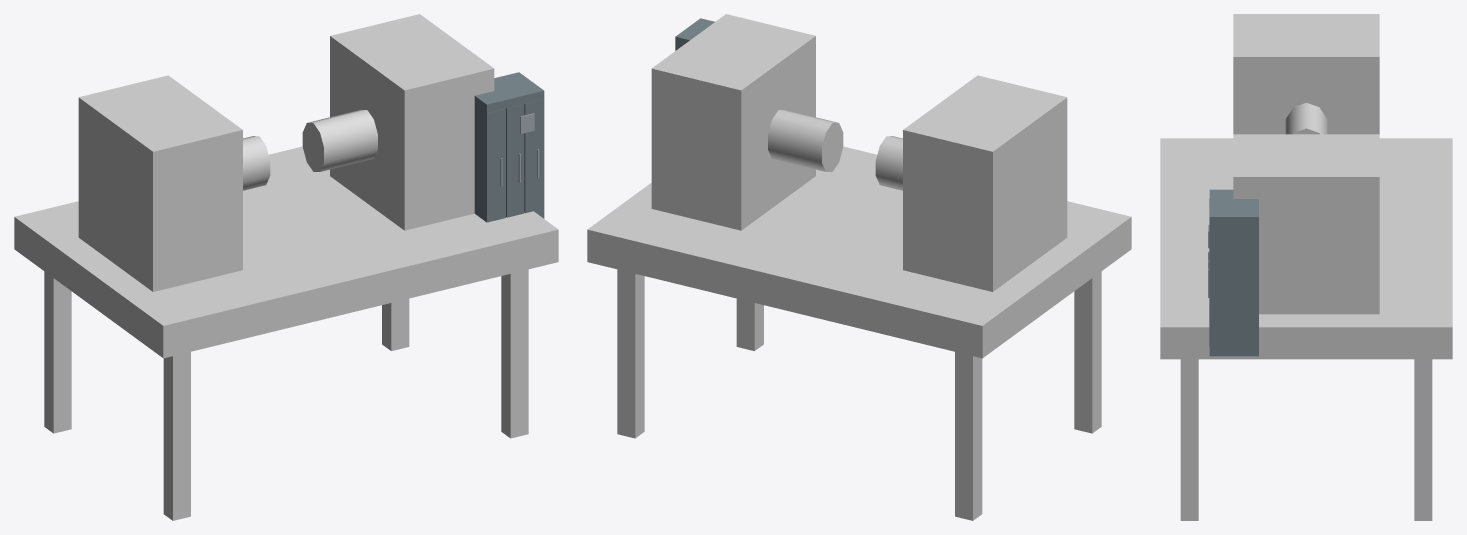
3 renders of one model, left to right at view 1: azimuth 30°, elevation 25°; view 2: azimuth 150°, elevation 25°; view 3: azimuth 270°, elevation 25°, orthographic. The views are drawn at different scales.
Parts seen in each view (by area): view 1: worktable_5, housing_7, housing_9, leg_4, leg_2, leg_1, clamped_workpiece_10, g0, g0.006, g0.003, g0.010, g0.007 (+2 smaller); view 2: worktable_5, housing_7, housing_9, leg_3, leg_1, leg_2, clamped_workpiece_10, leg_4, clamped_workpiece_8; view 3: worktable_5, housing_9, housing_7, g0.009, leg_3, leg_4, g0.007, clamped_workpiece_8, g0.008, g0.011.
Boxes of the visible parts, bbox=[...] form: worktable_5: bbox=[14, 146, 558, 358]; housing_7: bbox=[78, 75, 242, 291]; housing_9: bbox=[330, 14, 494, 230]; leg_4: bbox=[501, 269, 528, 438]; leg_2: bbox=[163, 352, 190, 520]; leg_1: bbox=[44, 271, 71, 433]; clamped_workpiece_10: bbox=[302, 109, 377, 171]; g0: bbox=[506, 104, 524, 217]; g0.006: bbox=[488, 108, 505, 221]; g0.003: bbox=[524, 99, 542, 217]; g0.010: bbox=[474, 95, 489, 222]; g0.007: bbox=[478, 74, 544, 112]; worktable_5: bbox=[587, 146, 1131, 358]; housing_7: bbox=[903, 75, 1067, 291]; housing_9: bbox=[651, 14, 815, 230]; leg_3: bbox=[617, 269, 644, 438]; leg_1: bbox=[955, 352, 982, 520]; leg_2: bbox=[1074, 271, 1101, 433]; clamped_workpiece_10: bbox=[768, 109, 843, 171]; leg_4: bbox=[736, 298, 763, 350]; clamped_workpiece_8: bbox=[875, 136, 902, 190]; worktable_5: bbox=[1160, 138, 1452, 359]; housing_9: bbox=[1233, 134, 1379, 314]; housing_7: bbox=[1233, 14, 1379, 134]; g0.009: bbox=[1209, 215, 1258, 347]; leg_3: bbox=[1414, 359, 1432, 520]; leg_4: bbox=[1180, 359, 1198, 520]; g0.007: bbox=[1209, 191, 1258, 225]; clamped_workpiece_8: bbox=[1285, 103, 1327, 134]; g0.008: bbox=[1256, 199, 1258, 354]; g0.011: bbox=[1209, 348, 1258, 356].
Bounding box in the file's own units: 2.2 × 1.8 × 1.4.
